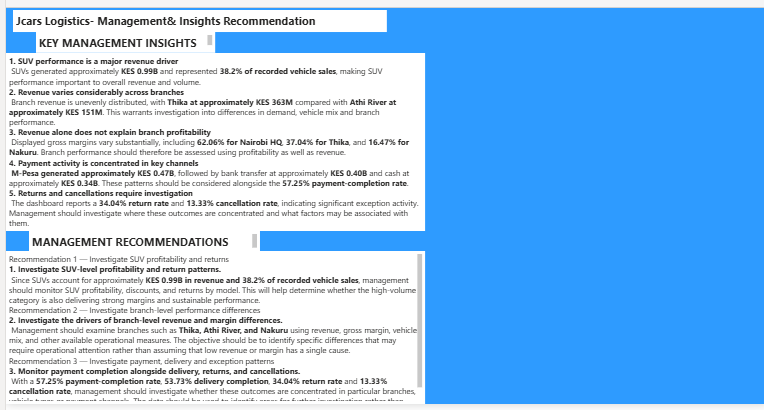

This screenshot's page, from the dashboard's own definition file:
{"tool":"powerbi","page":{"name":"Management Insights&Recommendtions","canvas":[1280,720],"ordinal":9},"visuals":[{"type":"textbox","box":[11.8,58.8,628.2,37],"z":0},{"type":"textbox","box":[50.4,95.7,300.7,35.3],"z":1000},{"type":"textbox","box":[0,131,703.8,299],"z":2000},{"type":"textbox","box":[38.6,430,388,33.6],"z":3000},{"type":"textbox","box":[0,463.6,703.8,257],"z":4000}]}

Visuals, with their boxes on the page's 1280x720 design canvas (x1, y1, x2, y2). These are canvas units, not pixel positions in the 764x410 screenshot, which may show the page scaled, cropped or inside an application window:
textbox: [left=12, top=59, right=640, bottom=96]
textbox: [left=50, top=96, right=351, bottom=131]
textbox: [left=0, top=131, right=704, bottom=430]
textbox: [left=39, top=430, right=427, bottom=464]
textbox: [left=0, top=464, right=704, bottom=721]
